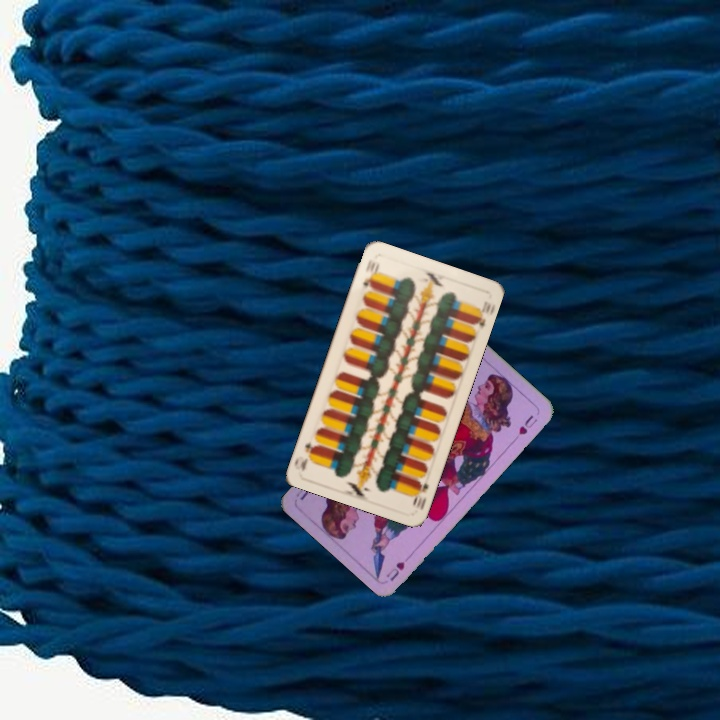E10: (409, 476, 431, 513), (359, 258, 382, 290)
HU: (382, 550, 415, 584)
